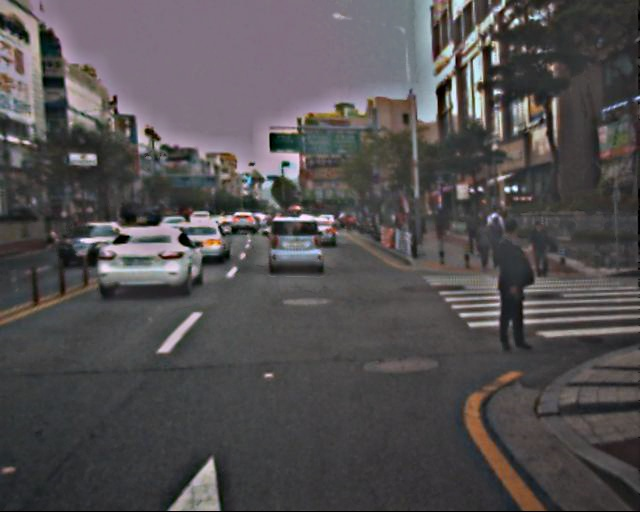person: (482, 220, 537, 354), (527, 219, 551, 277), (486, 214, 508, 268), (482, 203, 503, 255), (476, 218, 496, 266), (461, 208, 480, 255), (433, 208, 446, 240)
